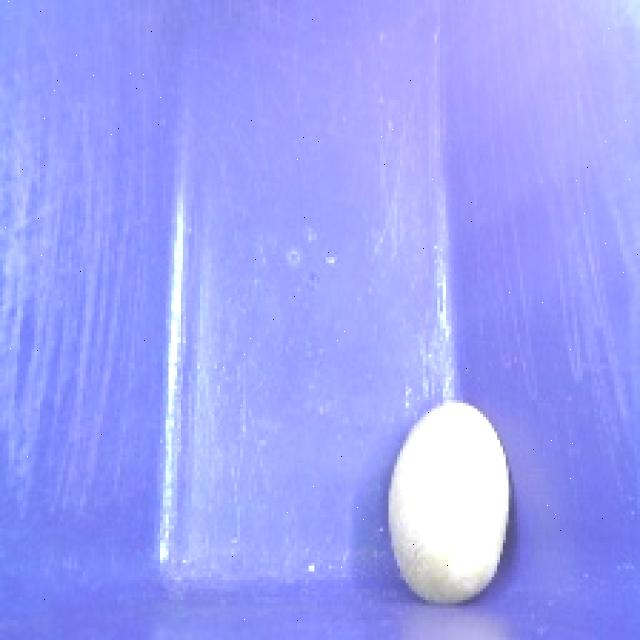potato: (377, 386, 523, 618)
